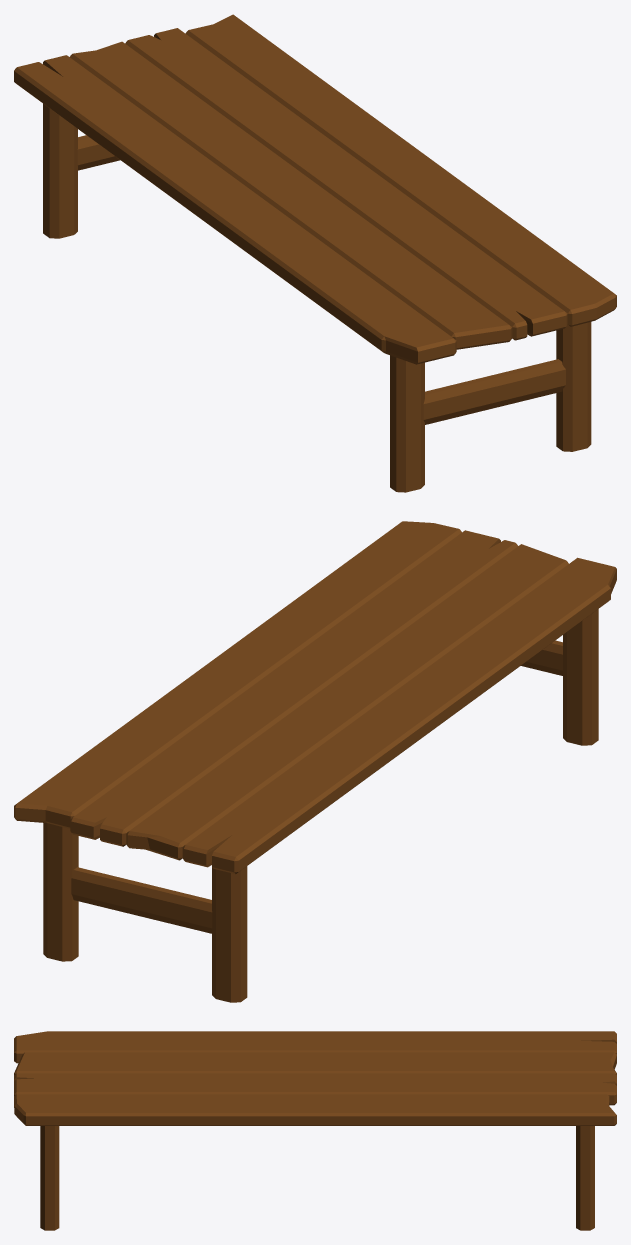
File: Table.fbx
3 views of the same model, one above another, from view 1: azimuth 30°, elevation 25°; view 2: azimuth 150°, elevation 25°; view 3: azimuth 270°, elevation 25° (orthographic). The views are drawn at different scales.
Visible parts, largest first — view 1: Table.001; view 2: Table.001; view 3: Table.001.
Part boxes in pixels (x1,y1,x2,y2): Table.001: (14,14,616,492); Table.001: (14,521,616,1002); Table.001: (14,1031,616,1230).
Bounding box in the file's own units: 156 × 106 × 475.
